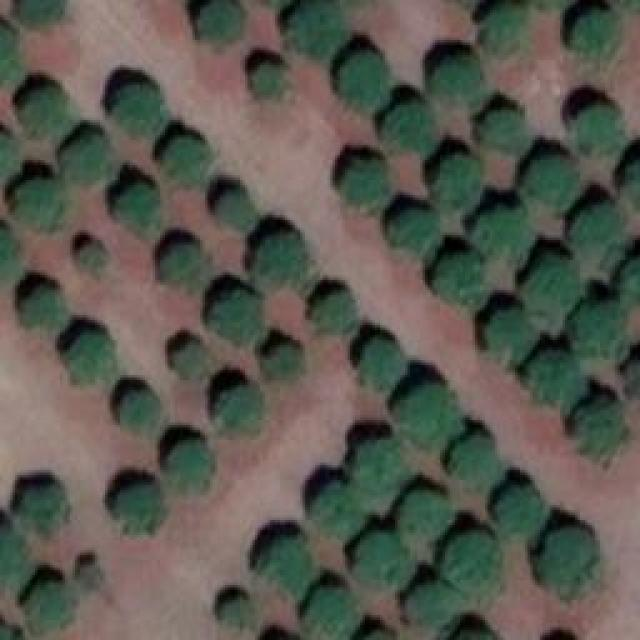Tree: (523, 258, 583, 331), (398, 385, 461, 448), (542, 530, 600, 598), (288, 0, 348, 60), (255, 235, 318, 290), (475, 207, 533, 265), (355, 535, 415, 590), (445, 533, 500, 593), (263, 537, 318, 595), (528, 353, 588, 406), (573, 205, 626, 265), (573, 303, 628, 358), (15, 178, 70, 231), (305, 587, 360, 640), (310, 483, 365, 536), (342, 53, 390, 113), (575, 400, 623, 460), (115, 85, 168, 138), (435, 255, 488, 308), (355, 440, 408, 493), (525, 158, 580, 208), (383, 100, 436, 150), (453, 435, 506, 485), (403, 490, 456, 540), (65, 335, 120, 383), (20, 483, 68, 536), (213, 290, 263, 340), (28, 583, 78, 633), (435, 58, 483, 110), (118, 180, 161, 238), (392, 210, 440, 260), (65, 135, 115, 183), (487, 310, 535, 360), (438, 155, 481, 210), (343, 160, 388, 210), (165, 138, 210, 188), (218, 385, 263, 435), (573, 105, 623, 150), (117, 485, 165, 530), (573, 10, 618, 58), (170, 440, 213, 490), (410, 585, 458, 628), (0, 530, 35, 588), (160, 245, 205, 290), (498, 488, 543, 533), (23, 88, 68, 131), (197, 0, 242, 42), (363, 343, 406, 386), (23, 288, 68, 328), (485, 110, 530, 150), (315, 293, 358, 333), (485, 5, 523, 50), (122, 392, 160, 430), (220, 192, 255, 230), (265, 348, 303, 383), (0, 25, 22, 85), (0, 227, 22, 282), (253, 63, 286, 98), (20, 0, 65, 25), (173, 345, 206, 378), (620, 153, 640, 205), (0, 132, 22, 177), (225, 600, 253, 628), (80, 243, 105, 273), (78, 565, 103, 588)
